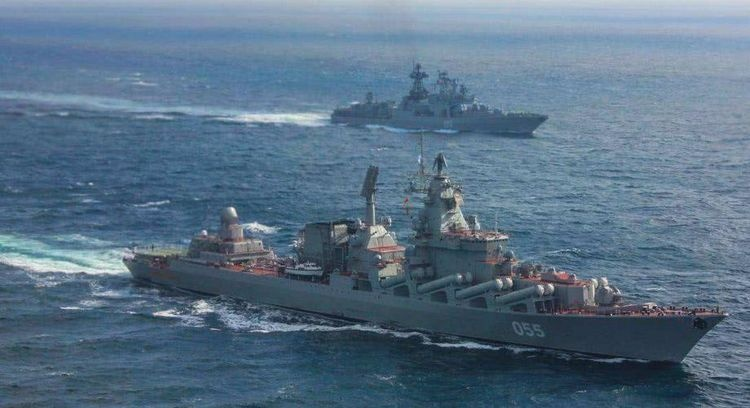warship: (113, 144, 730, 368), (323, 62, 549, 136)
